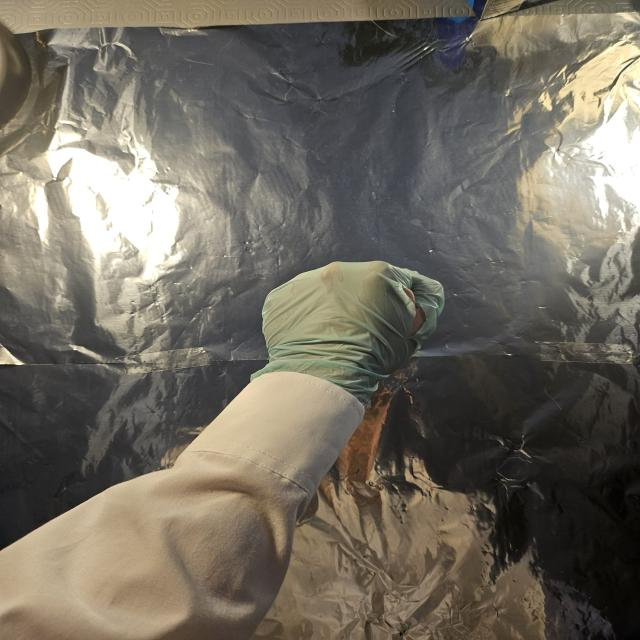gloves_damaged: (256, 252, 447, 411)
